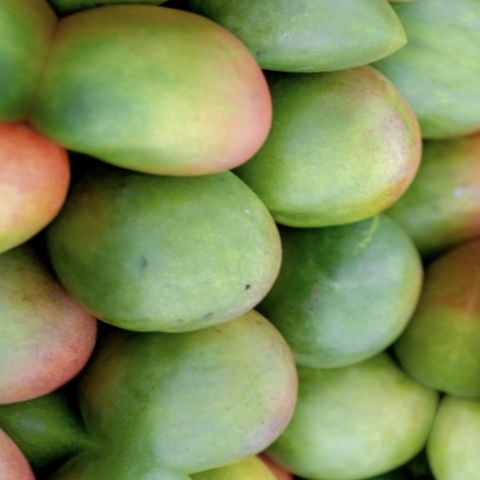mango: (27, 108, 315, 383), (44, 258, 339, 480), (20, 0, 305, 227), (243, 177, 468, 410)
